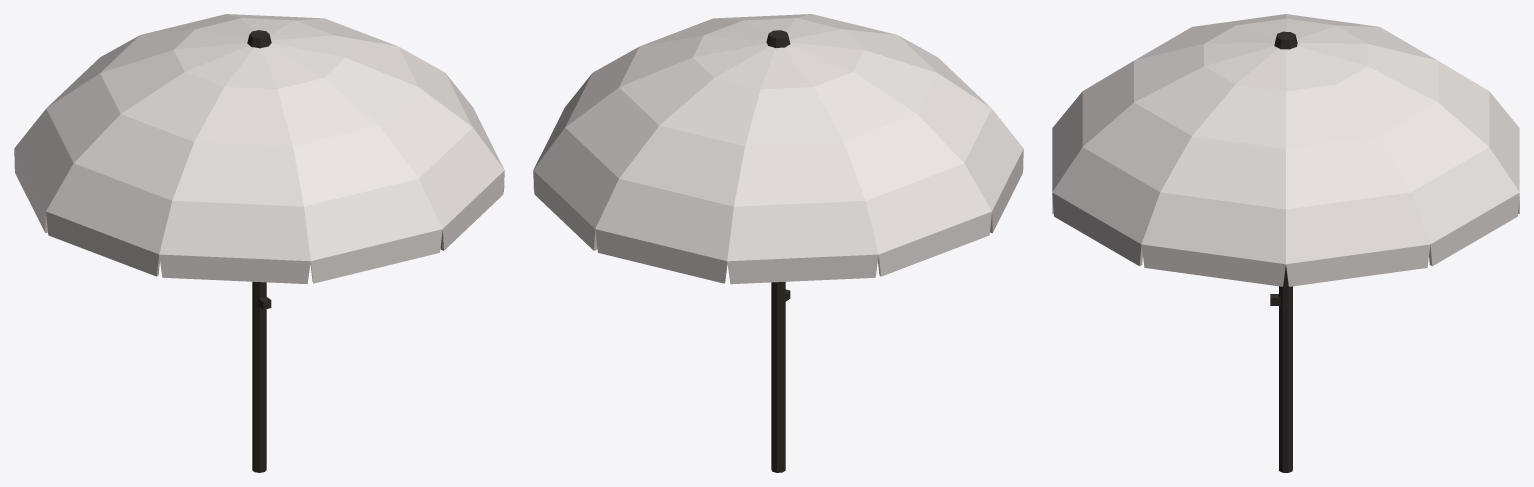
The model's file is SM_Clutter_Umbrella_White_01.fbx.
The picture shows the model from 3 angles, left to right: view 1: azimuth 30°, elevation 25°; view 2: azimuth 150°, elevation 25°; view 3: azimuth 270°, elevation 25°; orthographic projection.
Visible parts, largest first — view 1: SM_Clutter_Umbrella_White_01; view 2: SM_Clutter_Umbrella_White_01; view 3: SM_Clutter_Umbrella_White_01.
Boxes of the visible parts, x1,y1,x2,y2 form: SM_Clutter_Umbrella_White_01: [14, 14, 504, 472]; SM_Clutter_Umbrella_White_01: [533, 14, 1023, 472]; SM_Clutter_Umbrella_White_01: [1052, 14, 1519, 472].
Bounding box in the file's own units: 2.36 × 2.3 × 2.24.
1 material, 1 textured.
